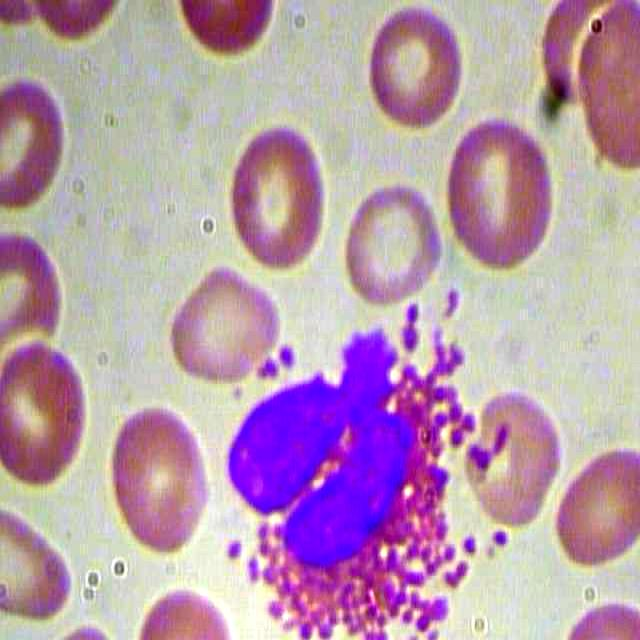RBC: (98, 396, 221, 557), (436, 111, 559, 272), (227, 113, 328, 279), (225, 111, 326, 276), (457, 378, 563, 526), (166, 260, 286, 388), (1, 333, 94, 495), (343, 182, 443, 310), (366, 1, 466, 128), (552, 448, 640, 572)
WBC: (216, 278, 517, 640)
